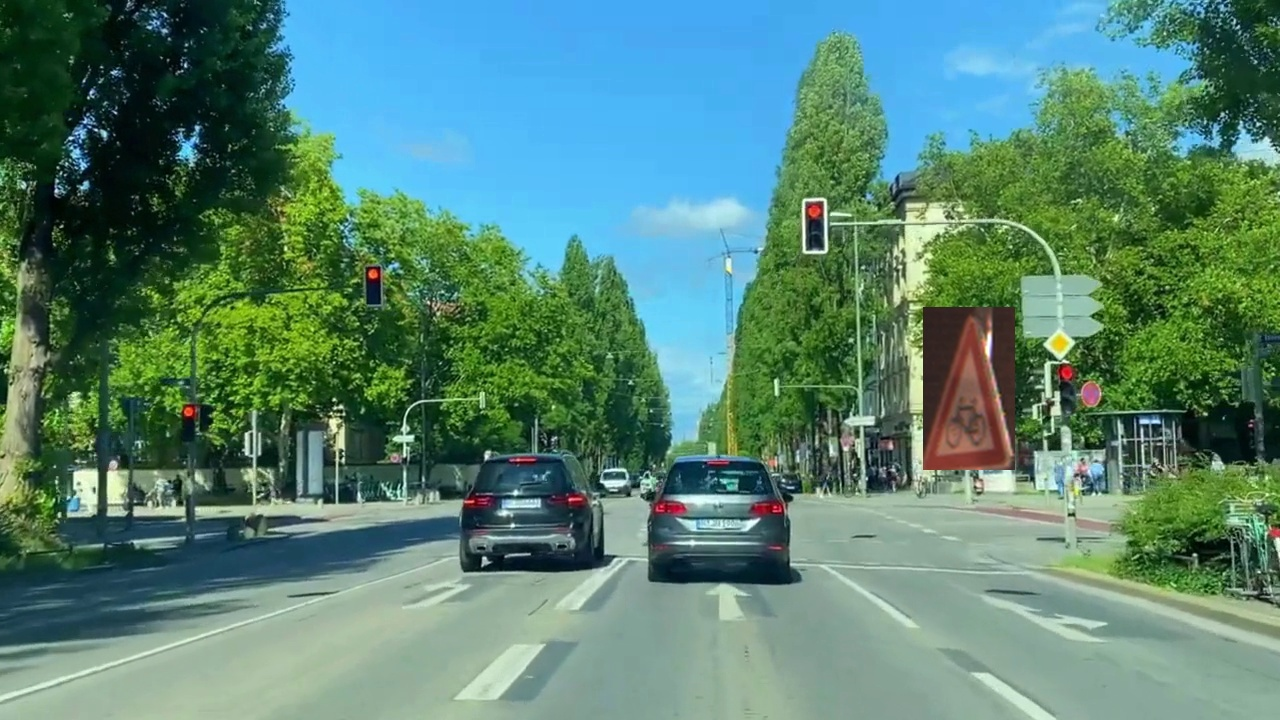Bicycles: (923, 307, 1015, 470)
